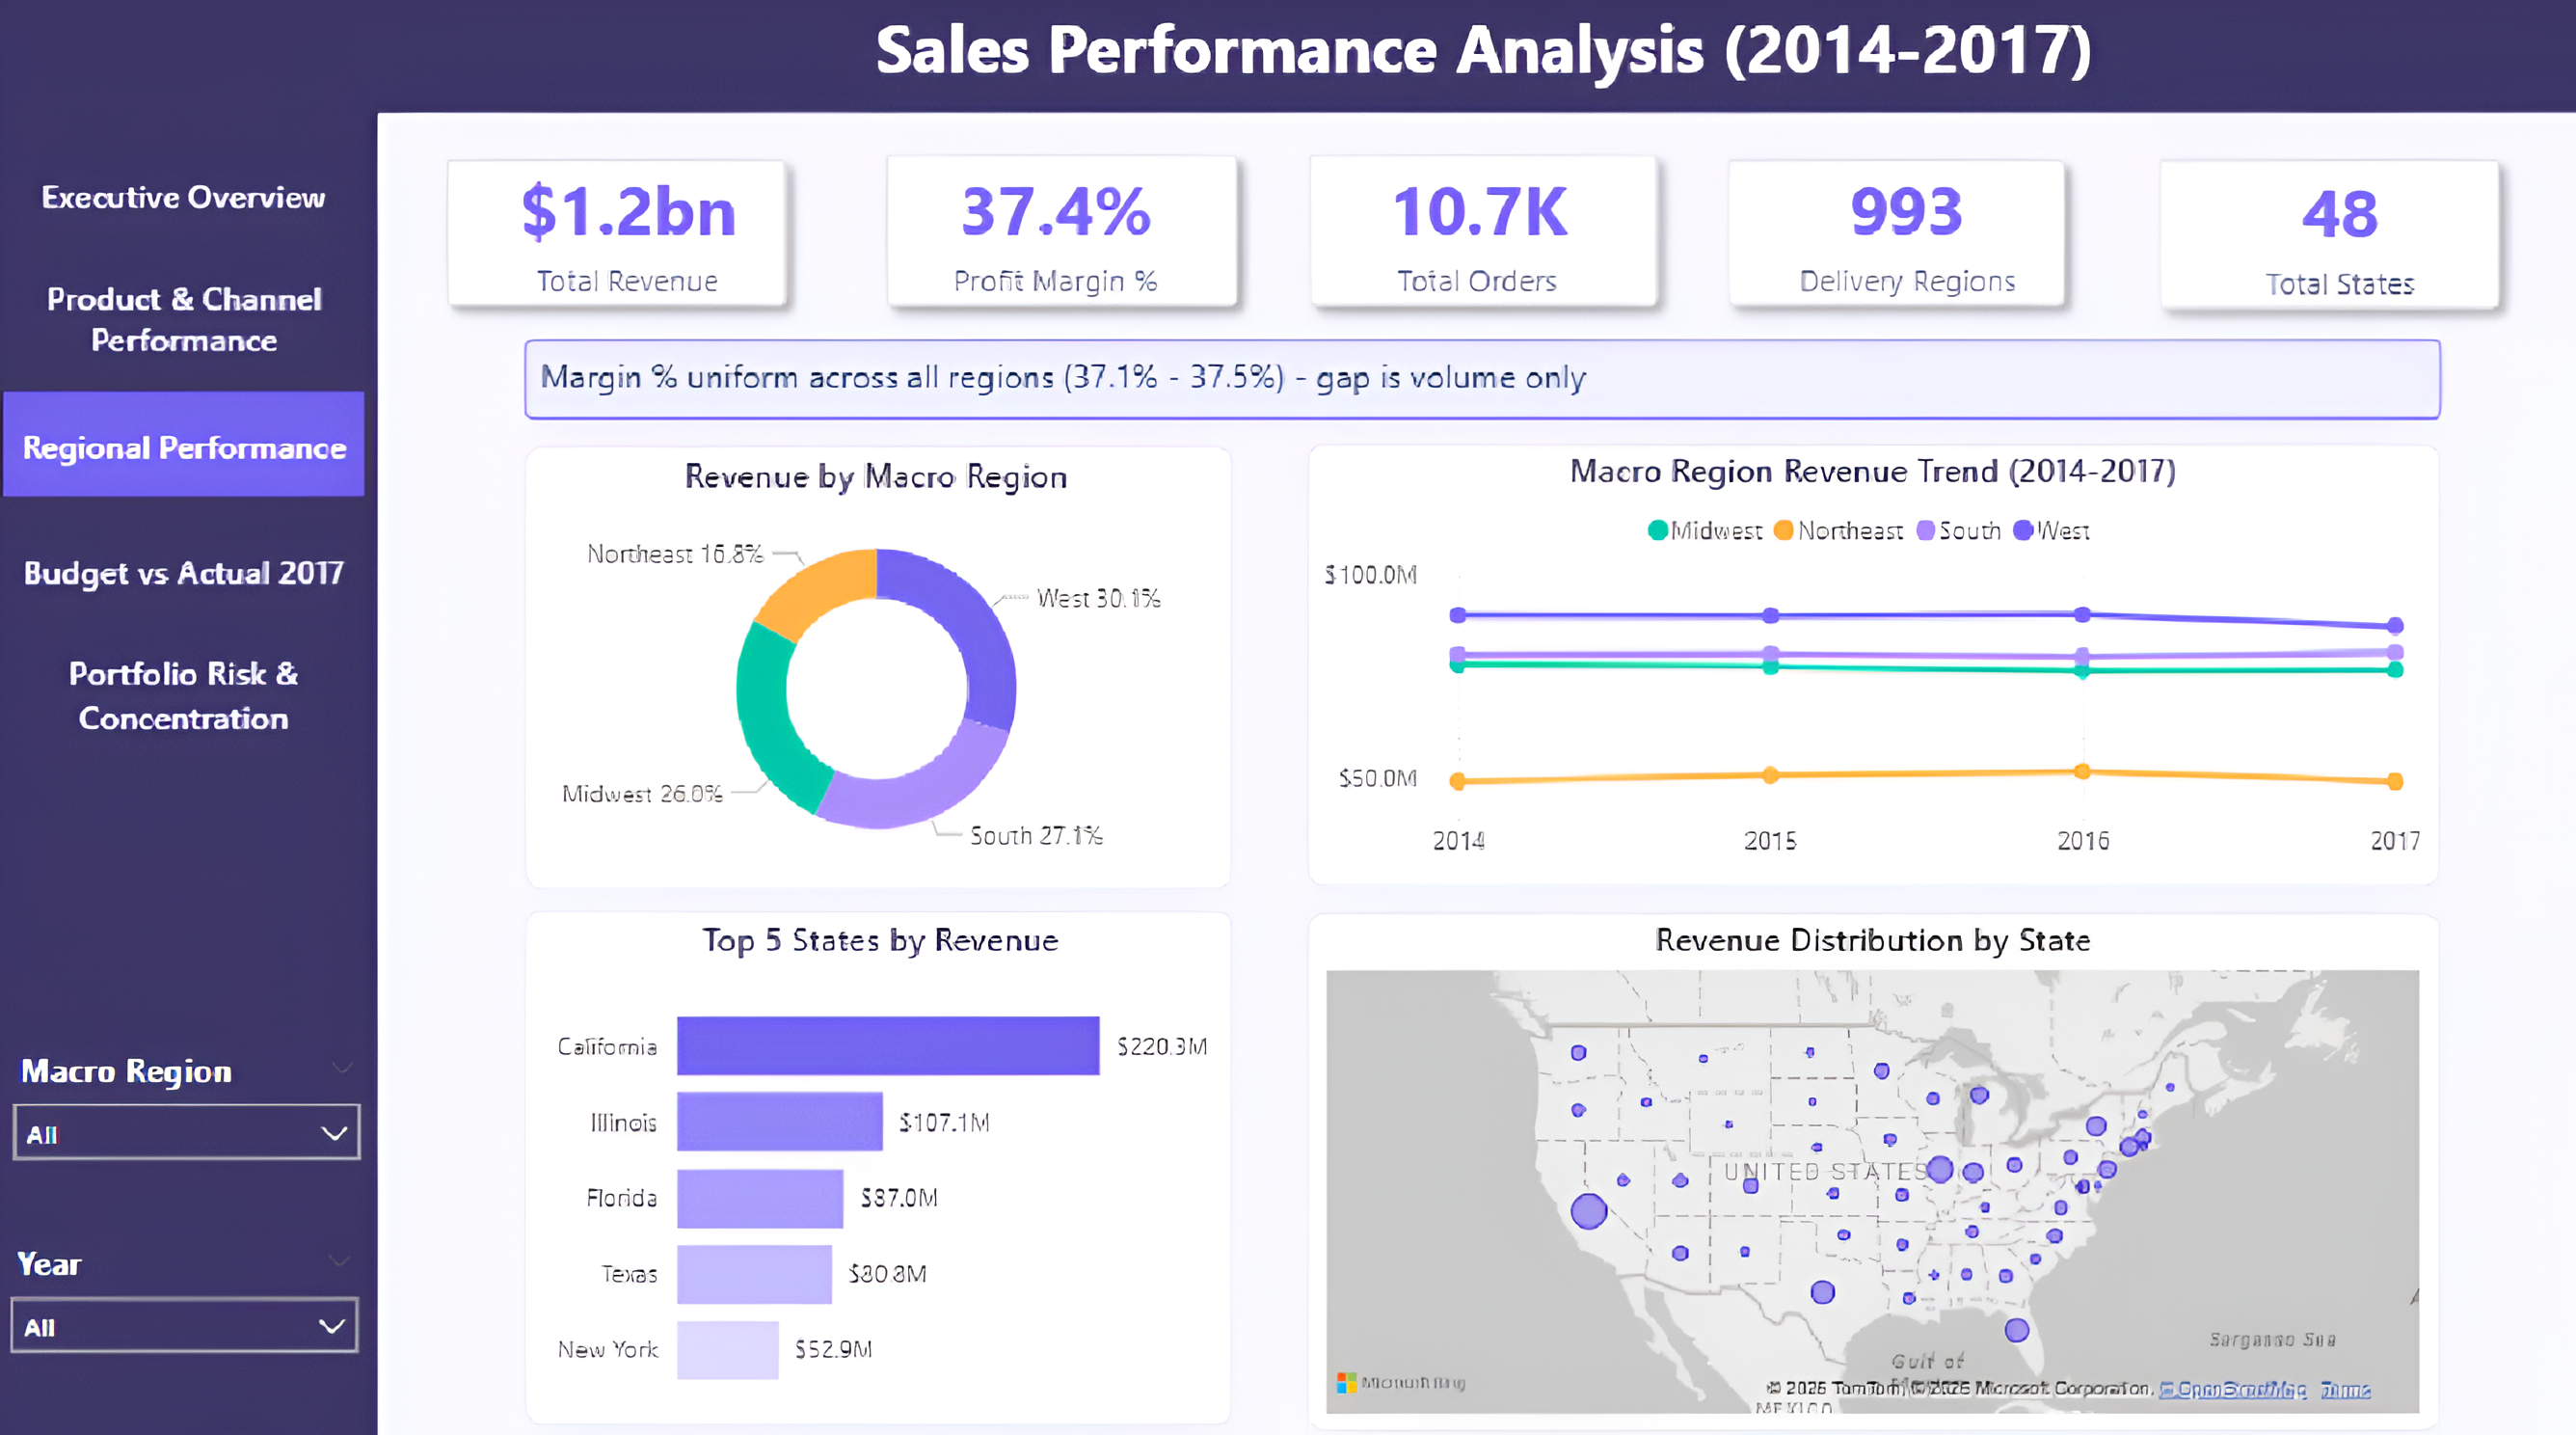

Layout of this report page (visuals, bound fields, positions):
{"tool":"powerbi","page":{"name":"Regional Performance ","canvas":[1280,720],"ordinal":2},"visuals":[{"type":"shape","box":[649,455.7,560,257.1],"z":0},{"type":"shape","box":[648.6,223.2,560,220],"z":1000},{"type":"shape","box":[431.7,70.6,191.7,93.4],"z":1002,"group":"g2"},{"type":"shape","box":[641.1,70.6,190.1,93.4],"z":1002,"group":"g4"},{"type":"shape","box":[215.7,73.3,186,90.6],"z":1002,"group":"g1"},{"type":"shape","box":[847.3,73.3,184.4,90.6],"z":1002,"group":"g3"},{"type":"shape","box":[1060,73.4,186,92.2],"z":1002,"group":"g5"},{"type":"card","fields":{"Values":["_measures.Total Revenue"]},"box":[216.4,70.6,195,93.4],"z":1502,"group":"g1"},{"type":"card","fields":{"Values":["_measures.Total Regions"]},"box":[848,70.6,193.3,93.4],"z":1502,"group":"g3"},{"type":"card","fields":{"Values":["_measures.Total States"]},"box":[1060.7,70.6,195,95],"z":1502,"group":"g5"},{"type":"card","fields":{"Values":["_measures.Weighted Margin %"]},"box":[426.8,71.2,196.7,93.4],"z":1502,"group":"g2"},{"type":"card","fields":{"Values":["_measures.Total Orders"]},"box":[636.2,71.2,195,93.4],"z":1502,"group":"g4"},{"type":"shape","box":[0,0,1280,60],"z":2000},{"type":"textbox","box":[424.3,0,625.7,58.6],"z":3000},{"type":"group","id":"g1","title":"Group 1","box":[215.7,70.6,195,95],"z":4000},{"type":"group","id":"g2","title":"Group 1","box":[426.8,70.6,195,95],"z":5000},{"type":"lineChart","title":"Macro Region Revenue Trend (2014-2017)","fields":{"Y":["_measures.Total Revenue"],"Series":["dim_regions.macro_region"],"Category":["calendar.year"]},"box":[652.9,226.1,551.4,212.9],"z":6000},{"type":"shape","box":[0,59.4,191,659.4],"z":7000},{"type":"slicer","fields":{"Values":["calendar.year"]},"box":[0,612.9,191.4,71.4],"z":8000},{"type":"pageNavigator","box":[7.1,74.1,178.8,304.7],"z":9000},{"type":"group","id":"g3","title":"Group 1","box":[847.3,70.6,195,95],"z":10000},{"type":"shape","box":[262.9,224.7,350,220],"z":11000},{"type":"donutChart","title":"Revenue by Macro Region","fields":{"Y":["_measures.Total Revenue"],"Category":["dim_regions.macro_region"]},"box":[266.4,228.6,342.2,212.3],"z":12000},{"type":"shape","box":[263.7,454.3,350,255.7],"z":13000},{"type":"clusteredBarChart","title":"Top 5 States by Revenue","fields":{"Y":["_measures.Total Revenue"],"Category":["dim_regions.state"]},"box":[268,458.6,341.4,250],"z":14000},{"type":"map","title":"Revenue Distribution by State","fields":{"Category":["dim_regions.state"],"Size":["_measures.Total Revenue"]},"box":[654.7,458.6,550,250],"z":15000},{"type":"slicer","fields":{"Values":["dim_regions.macro_region"]},"box":[1.4,517.1,191.4,71.4],"z":16000},{"type":"group","id":"g4","title":"Group 1","box":[636.2,70.6,195,95],"z":17000},{"type":"group","id":"g5","title":"Group 1","box":[1060,70.6,195.7,95],"z":18000},{"type":"textbox","box":[262.9,171.4,945.7,40],"z":19000}]}

Visuals, with their boxes on the page's 1280x720 design canvas (x1, y1, x2, y2). These are canvas units, not pixel positions in the 2576x1435 screenshot, which may show the page scaled, cropped or inside an application window:
shape: [649,456,1209,713]
shape: [649,223,1209,443]
shape: [432,71,623,164]
shape: [641,71,831,164]
shape: [216,73,402,164]
shape: [847,73,1032,164]
shape: [1060,73,1246,166]
card - _measures.Total Revenue: [216,71,411,164]
card - _measures.Total Regions: [848,71,1041,164]
card - _measures.Total States: [1061,71,1256,166]
card - _measures.Weighted Margin %: [427,71,624,165]
card - _measures.Total Orders: [636,71,831,165]
shape: [0,0,1280,60]
textbox: [424,0,1050,59]
"Group 1" group: [216,71,411,166]
"Group 1" group: [427,71,622,166]
"Macro Region Revenue Trend (2014-2017)" lineChart: [653,226,1204,439]
shape: [0,59,191,719]
slicer - calendar.year: [0,613,191,684]
pageNavigator: [7,74,186,379]
"Group 1" group: [847,71,1042,166]
shape: [263,225,613,445]
"Revenue by Macro Region" donutChart: [266,229,609,441]
shape: [264,454,614,710]
"Top 5 States by Revenue" clusteredBarChart: [268,459,609,709]
"Revenue Distribution by State" map: [655,459,1205,709]
slicer - dim_regions.macro_region: [1,517,193,588]
"Group 1" group: [636,71,831,166]
"Group 1" group: [1060,71,1256,166]
textbox: [263,171,1209,211]
